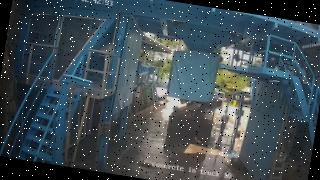cement_mixer_truck: (167, 84, 224, 143)
